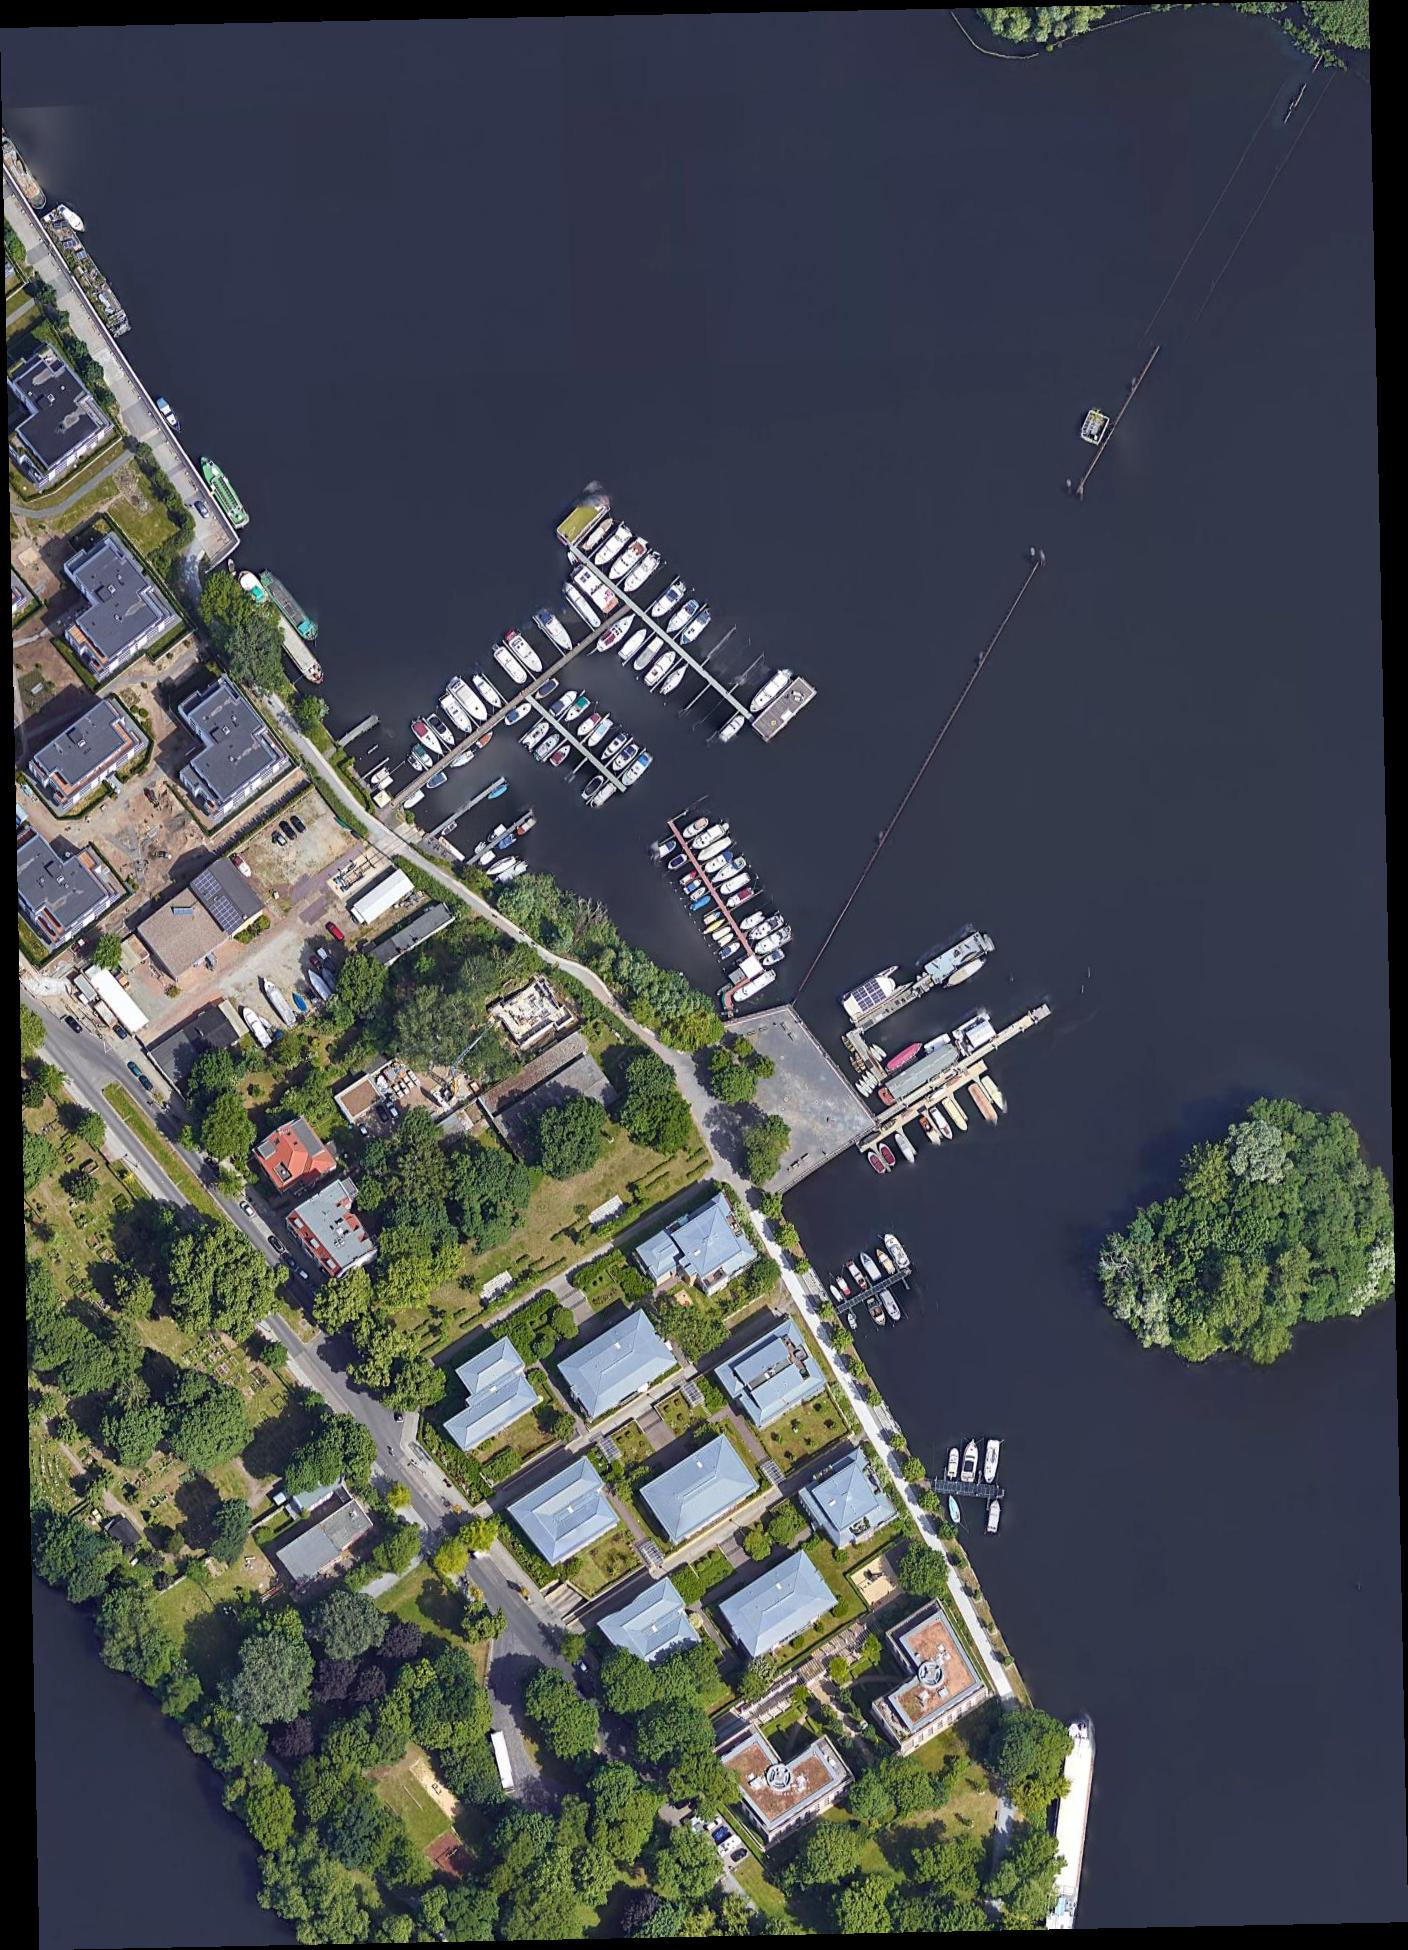harbor: (519, 487, 818, 778), (360, 565, 640, 827), (640, 799, 813, 999), (501, 668, 656, 818), (875, 1005, 1051, 1123), (855, 1060, 1011, 1182), (819, 1235, 927, 1332), (462, 802, 542, 875), (430, 777, 506, 836), (933, 1478, 1005, 1500), (336, 713, 380, 749)
ship: (39, 209, 132, 338), (1043, 1724, 1096, 1927), (235, 569, 326, 684), (878, 1042, 961, 1104), (259, 569, 318, 642), (197, 453, 251, 528), (752, 677, 815, 740), (924, 933, 989, 981), (557, 494, 609, 544), (842, 973, 896, 1020), (572, 565, 618, 610), (447, 678, 491, 725), (749, 668, 793, 713), (534, 609, 577, 656), (260, 978, 301, 1026), (595, 609, 639, 653), (618, 550, 660, 595), (562, 581, 603, 627), (506, 631, 545, 674), (607, 539, 646, 581), (593, 525, 631, 569), (410, 721, 450, 759), (733, 969, 777, 1002), (494, 646, 528, 684), (648, 583, 683, 621), (441, 693, 472, 734), (665, 597, 699, 633), (681, 607, 713, 646), (955, 1022, 995, 1054), (643, 649, 677, 686), (886, 1040, 922, 1072), (472, 674, 504, 710), (967, 1082, 998, 1120), (948, 958, 986, 989), (621, 752, 653, 787), (581, 516, 613, 551), (951, 1011, 990, 1039), (427, 715, 459, 748), (634, 637, 665, 672), (755, 927, 793, 954), (154, 397, 182, 435), (618, 628, 649, 660), (712, 855, 746, 883), (58, 201, 86, 233), (981, 1076, 1008, 1110), (244, 1008, 271, 1042), (690, 824, 725, 849), (930, 1107, 955, 1142), (883, 1232, 908, 1267), (548, 687, 578, 716), (660, 663, 687, 695), (699, 836, 733, 861), (749, 914, 784, 939), (533, 731, 562, 760), (306, 967, 335, 996), (610, 743, 637, 774), (522, 722, 553, 749), (942, 1098, 967, 1129), (983, 1438, 1001, 1482), (600, 733, 627, 762), (960, 1440, 978, 1481), (587, 718, 612, 748), (590, 783, 616, 810), (575, 712, 603, 737), (917, 1116, 942, 1145), (880, 1291, 902, 1322), (439, 836, 465, 861), (566, 696, 590, 724), (893, 1135, 916, 1164), (581, 774, 606, 799), (229, 852, 254, 877), (681, 816, 709, 839), (504, 702, 531, 725), (858, 1251, 881, 1278), (488, 855, 516, 877), (864, 1297, 886, 1326), (721, 874, 751, 893), (721, 715, 743, 740), (924, 1033, 951, 1054), (846, 1261, 868, 1288), (864, 1152, 889, 1175), (500, 861, 525, 883), (728, 886, 755, 905), (550, 743, 572, 766), (536, 678, 560, 699), (413, 745, 435, 768), (986, 1500, 1001, 1532), (450, 751, 474, 771), (877, 1143, 896, 1167), (739, 911, 765, 930), (404, 789, 424, 810), (763, 948, 786, 966), (877, 1249, 895, 1272), (656, 839, 675, 858), (704, 917, 725, 936), (690, 893, 712, 911), (718, 942, 740, 958), (858, 1129, 881, 1146), (948, 1496, 961, 1523), (948, 1447, 960, 1478), (668, 852, 687, 871), (369, 768, 391, 784), (488, 824, 507, 840), (428, 774, 448, 790), (407, 754, 424, 774), (491, 783, 509, 799), (518, 819, 536, 836), (713, 924, 731, 940), (475, 731, 494, 748), (441, 821, 459, 836), (702, 910, 721, 925), (683, 880, 702, 893), (480, 849, 495, 866), (680, 871, 696, 886), (690, 887, 706, 902), (291, 993, 306, 1008), (861, 1075, 877, 1090), (718, 933, 734, 946), (880, 1117, 896, 1131), (836, 1276, 849, 1293), (500, 836, 515, 849), (871, 1045, 886, 1058), (842, 1037, 855, 1052), (858, 1079, 872, 1095), (830, 1285, 843, 1301), (864, 1070, 878, 1084), (378, 777, 394, 789), (917, 975, 930, 990), (871, 1048, 883, 1061), (855, 1084, 868, 1098), (983, 934, 995, 948), (229, 559, 238, 574), (848, 1313, 857, 1328), (475, 840, 486, 852), (922, 973, 933, 986), (855, 1054, 864, 1067), (849, 1057, 858, 1070)
